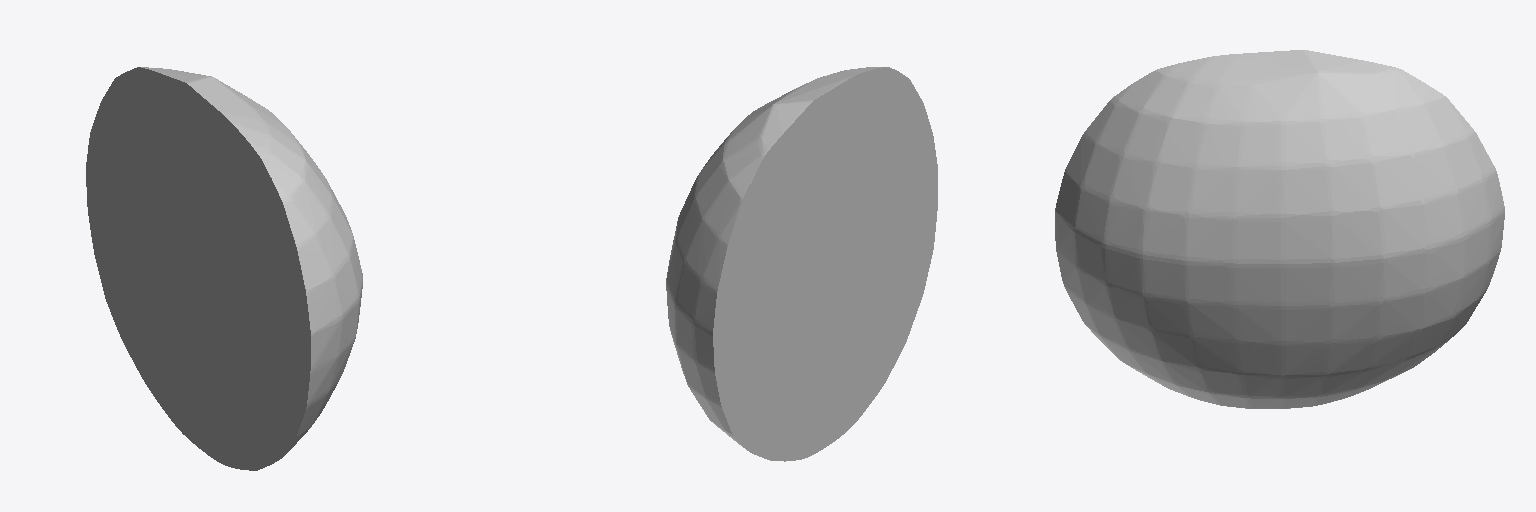
Rendered from Tomato_19_collision_1.obj.
3 renders of one model, left to right at view 1: azimuth 30°, elevation 25°; view 2: azimuth 150°, elevation 25°; view 3: azimuth 270°, elevation 25°, orthographic.
Bounding box in the file's own units: 0.0336 × 0.0992 × 0.1136.